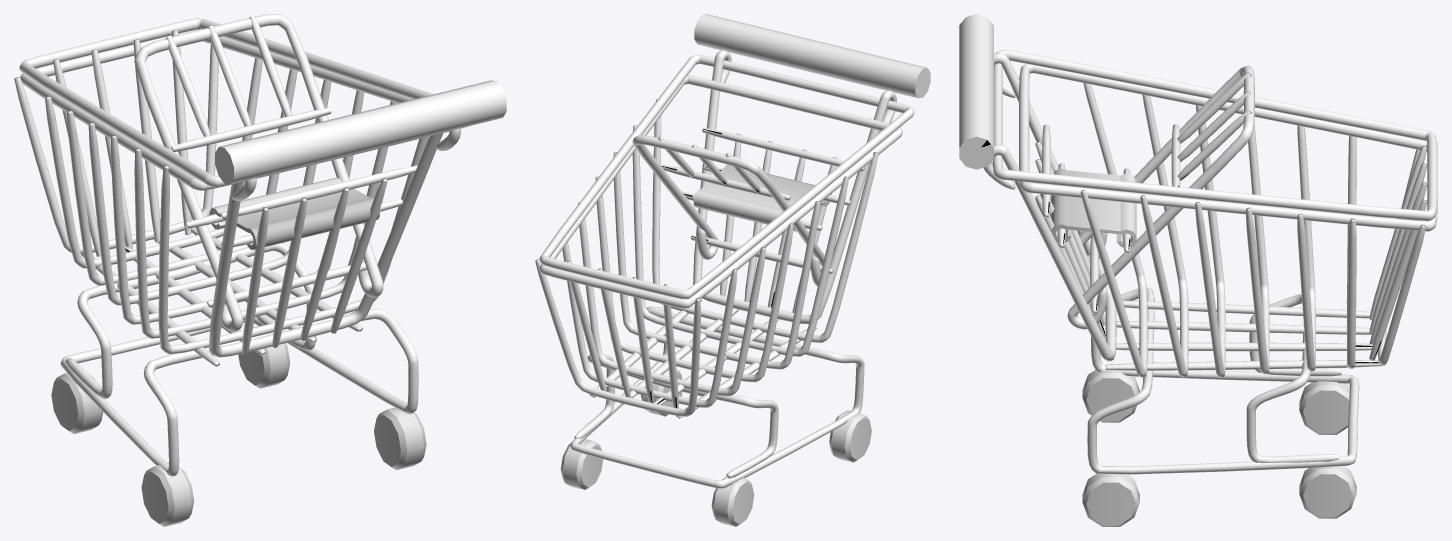
The model's file is Cart.fbx.
The picture shows the model from 3 angles, left to right: view 1: azimuth 30°, elevation 25°; view 2: azimuth 150°, elevation 25°; view 3: azimuth 270°, elevation 25°; orthographic projection. The views are drawn at different scales.
Visible parts, largest first — view 1: metalcart, plasticcart, wheels; view 2: metalcart, plasticcart, wheels; view 3: metalcart, wheels, plasticcart.
Part boxes in pixels (x1,y1,x2,y2): metalcart: (14, 14, 465, 476); plasticcart: (209, 80, 506, 249); wheels: (51, 326, 426, 526); metalcart: (535, 50, 914, 488); plasticcart: (693, 14, 930, 231); wheels: (560, 369, 871, 526); metalcart: (983, 49, 1437, 474); wheels: (1082, 365, 1356, 526); plasticcart: (959, 14, 1136, 247).
Size of the model in its own units: 2.57 by 3.82 by 4.18.
